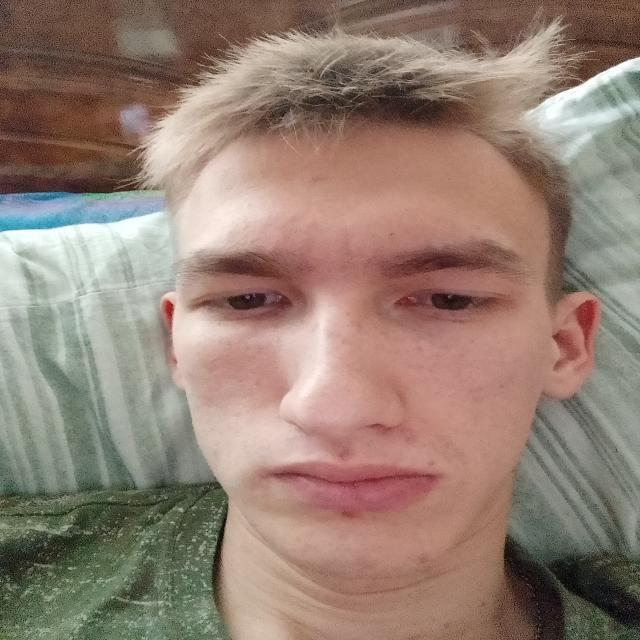Acne: (345, 216, 409, 262), (404, 424, 461, 464), (332, 502, 378, 530)
